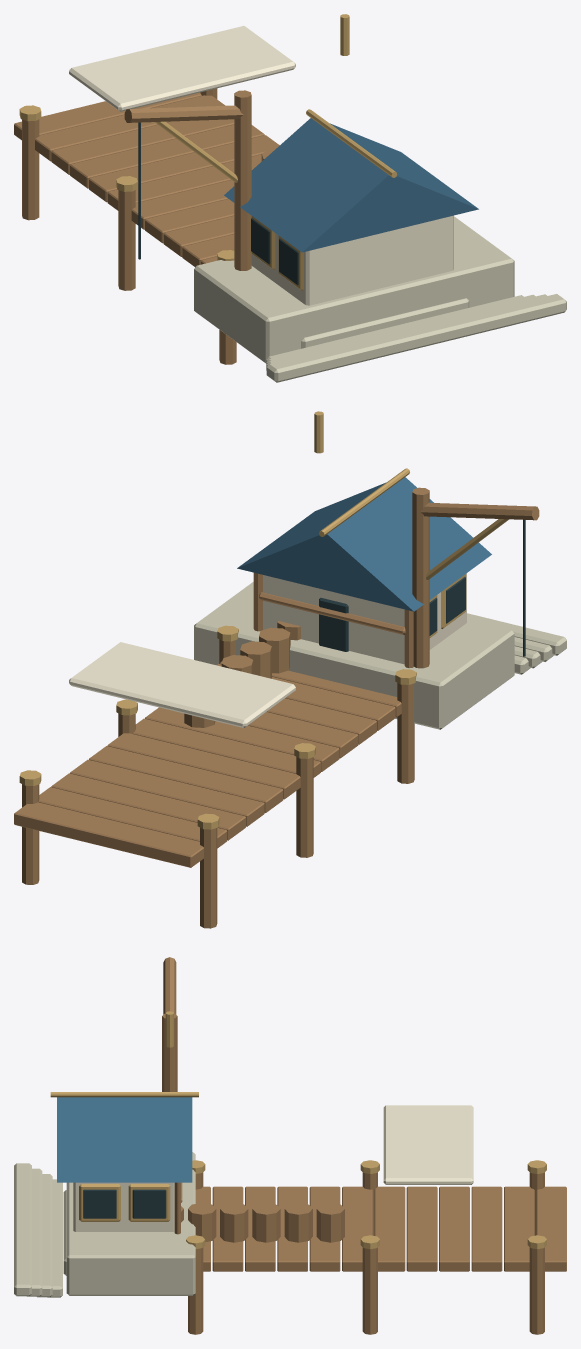
The model's file is level_26.glb.
The picture shows the model from 3 angles, top to bottom: view 1: azimuth 30°, elevation 25°; view 2: azimuth 150°, elevation 25°; view 3: azimuth 270°, elevation 25°; orthographic projection. The views are drawn at different scales.
Parts seen in each view (by area): view 1: fishing_wharf — level 26; view 2: fishing_wharf — level 26; view 3: fishing_wharf — level 26.
Boxes of the visible parts, bbox=[...] form: fishing_wharf — level 26: bbox=[14, 14, 566, 382]; fishing_wharf — level 26: bbox=[14, 411, 566, 928]; fishing_wharf — level 26: bbox=[14, 957, 566, 1334].
Size of the model in its own units: 5.45 by 4.91 by 8.59.
